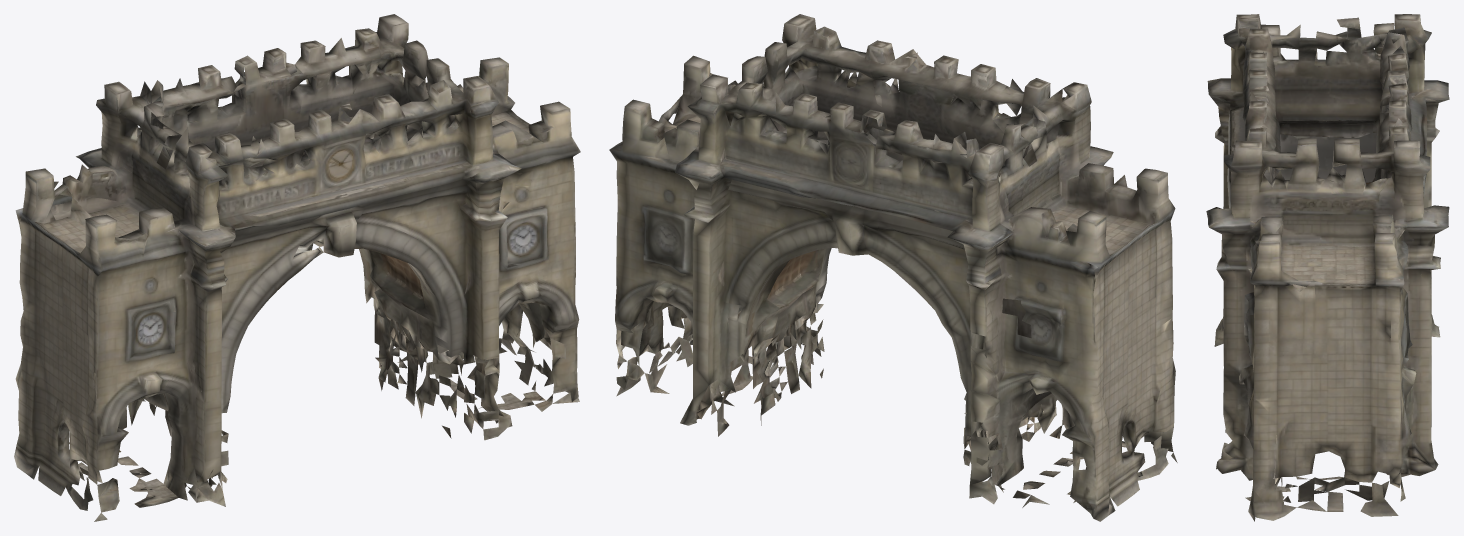
File: 70bb49d6-9ee5-48e2-a9ec-1f8bbda57e0c.glb
3 views of the same model, side by side, from view 1: azimuth 30°, elevation 25°; view 2: azimuth 150°, elevation 25°; view 3: azimuth 270°, elevation 25° (orthographic). The views are drawn at different scales.
Size of the model in its own units: 2 by 1.38 by 0.914.
1 material, 1 textured.
